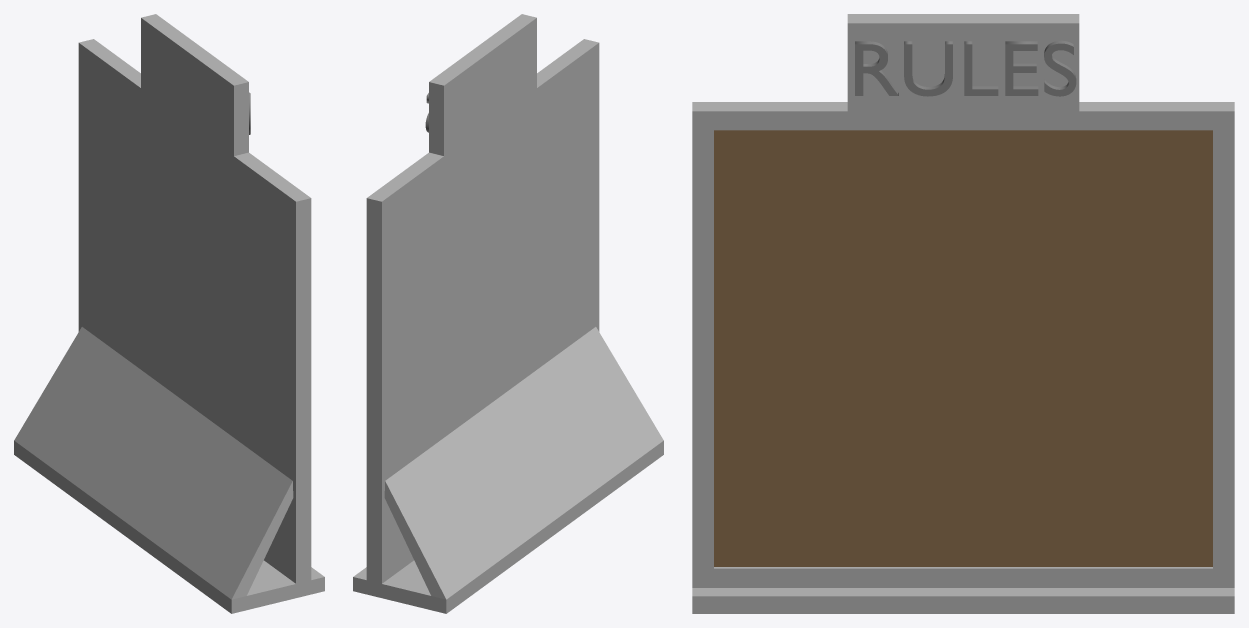
File: BOardOfRaNdOmDess.fbx
3 renders of one model, left to right at view 1: azimuth 30°, elevation 25°; view 2: azimuth 150°, elevation 25°; view 3: azimuth 270°, elevation 25°, orthographic. The views are drawn at different scales.
Parts seen in each view (by area): view 1: Cube.001; view 2: Cube.001; view 3: Cube.001, Text.
Boxes of the visible parts, x1,y1,x2,y2 form: Cube.001: (14, 14, 324, 613); Cube.001: (353, 14, 663, 613); Cube.001: (692, 14, 1234, 613); Text: (855, 40, 1076, 96).
Size of the model in its own units: 150 by 717 by 605.
